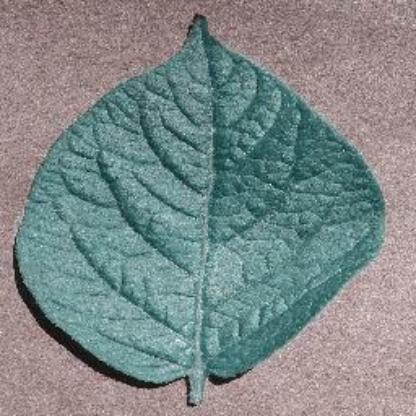Healthy-plant: (13, 11, 393, 405)
